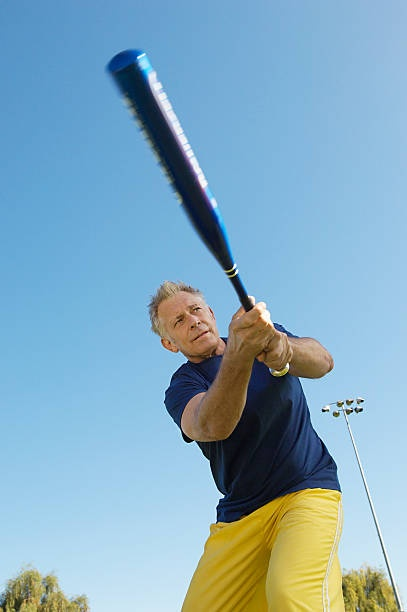bita: (110, 47, 250, 316)
